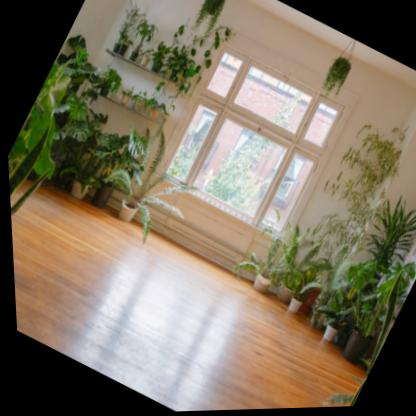Window: (153, 45, 348, 243)
Wooden floor: (9, 184, 360, 412)
